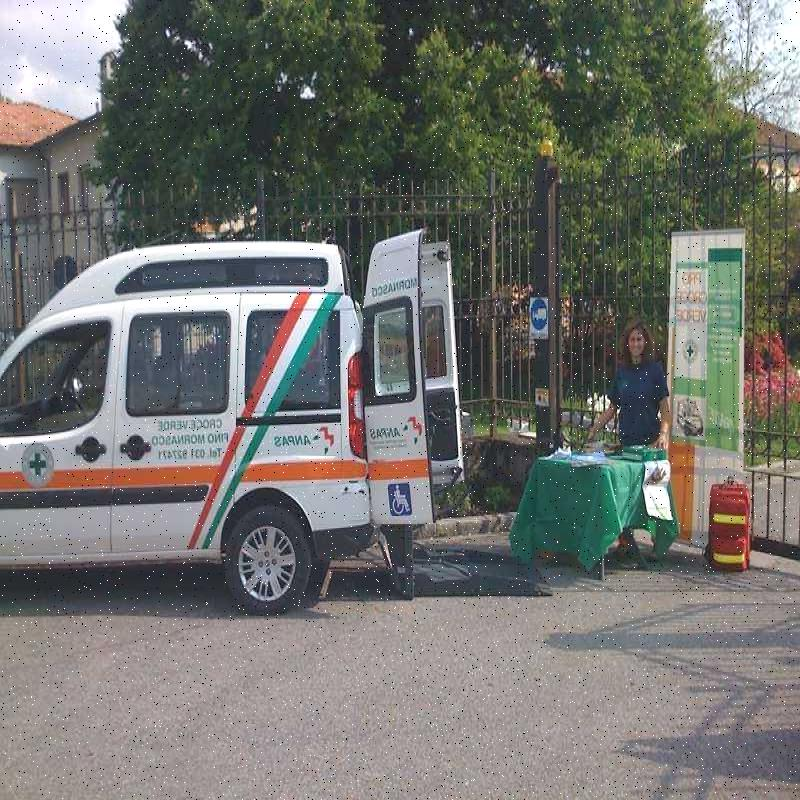ambulance: (0, 214, 424, 731)
